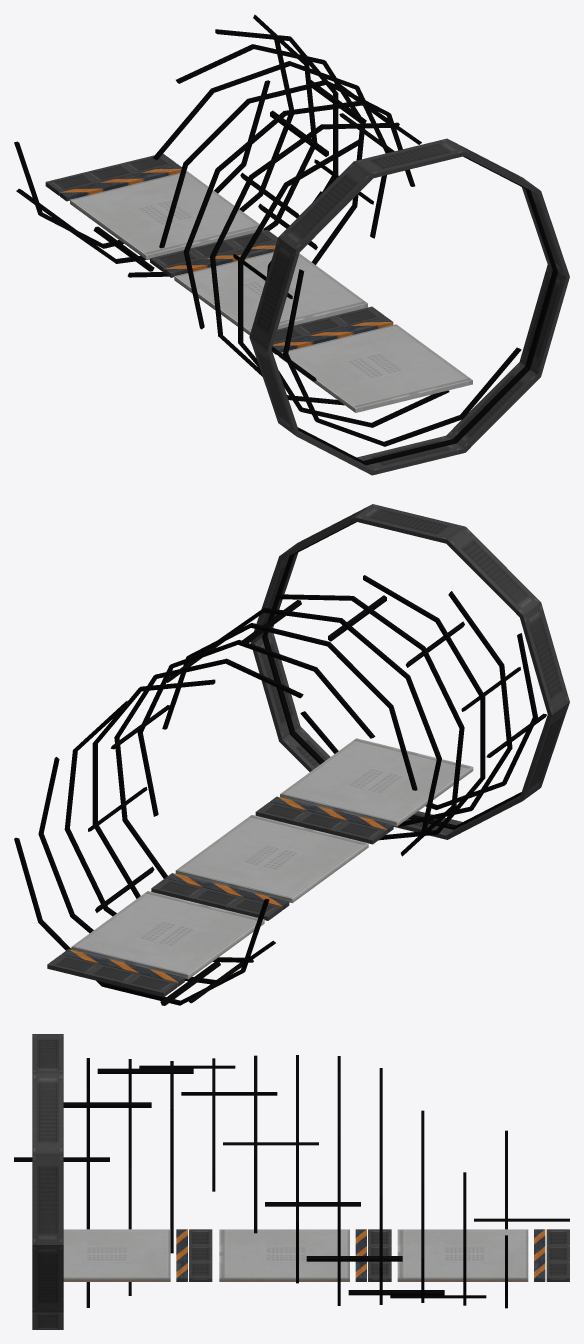
File: Colony_BridgeSection_Art.glb
3 views of the same model, one above another, from view 1: azimuth 30°, elevation 25°; view 2: azimuth 150°, elevation 25°; view 3: azimuth 270°, elevation 25° (orthographic). The views are drawn at different scales.
Parts seen in each view (by area): view 1: Colony_BridgeSection_Art; view 2: Colony_BridgeSection_Art; view 3: Colony_BridgeSection_Art.
Boxes of the visible parts, bbox=[...] form: Colony_BridgeSection_Art: bbox=[14, 14, 569, 475]; Colony_BridgeSection_Art: bbox=[14, 504, 569, 1005]; Colony_BridgeSection_Art: bbox=[14, 1034, 569, 1329].
Size of the model in its own units: 7.13 by 6.78 by 13.29.
Materials: 3 (3 with a texture image).
